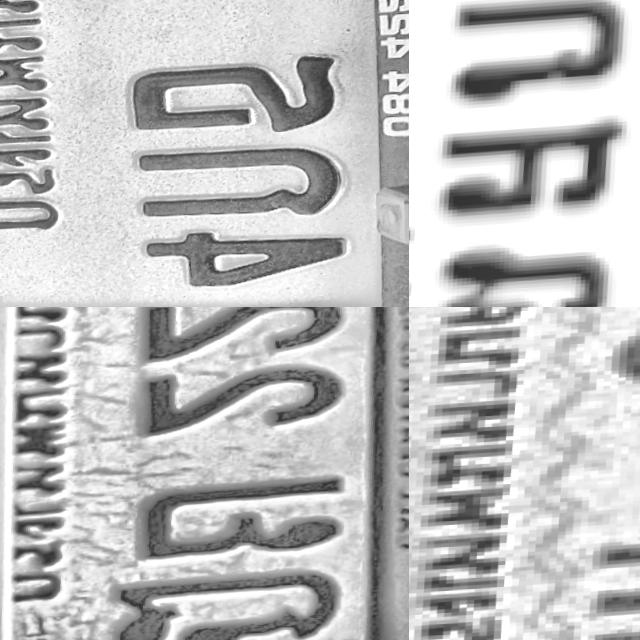license-plate: (0, 307, 409, 640), (0, 0, 409, 307), (409, 307, 640, 640), (409, 0, 640, 307)
